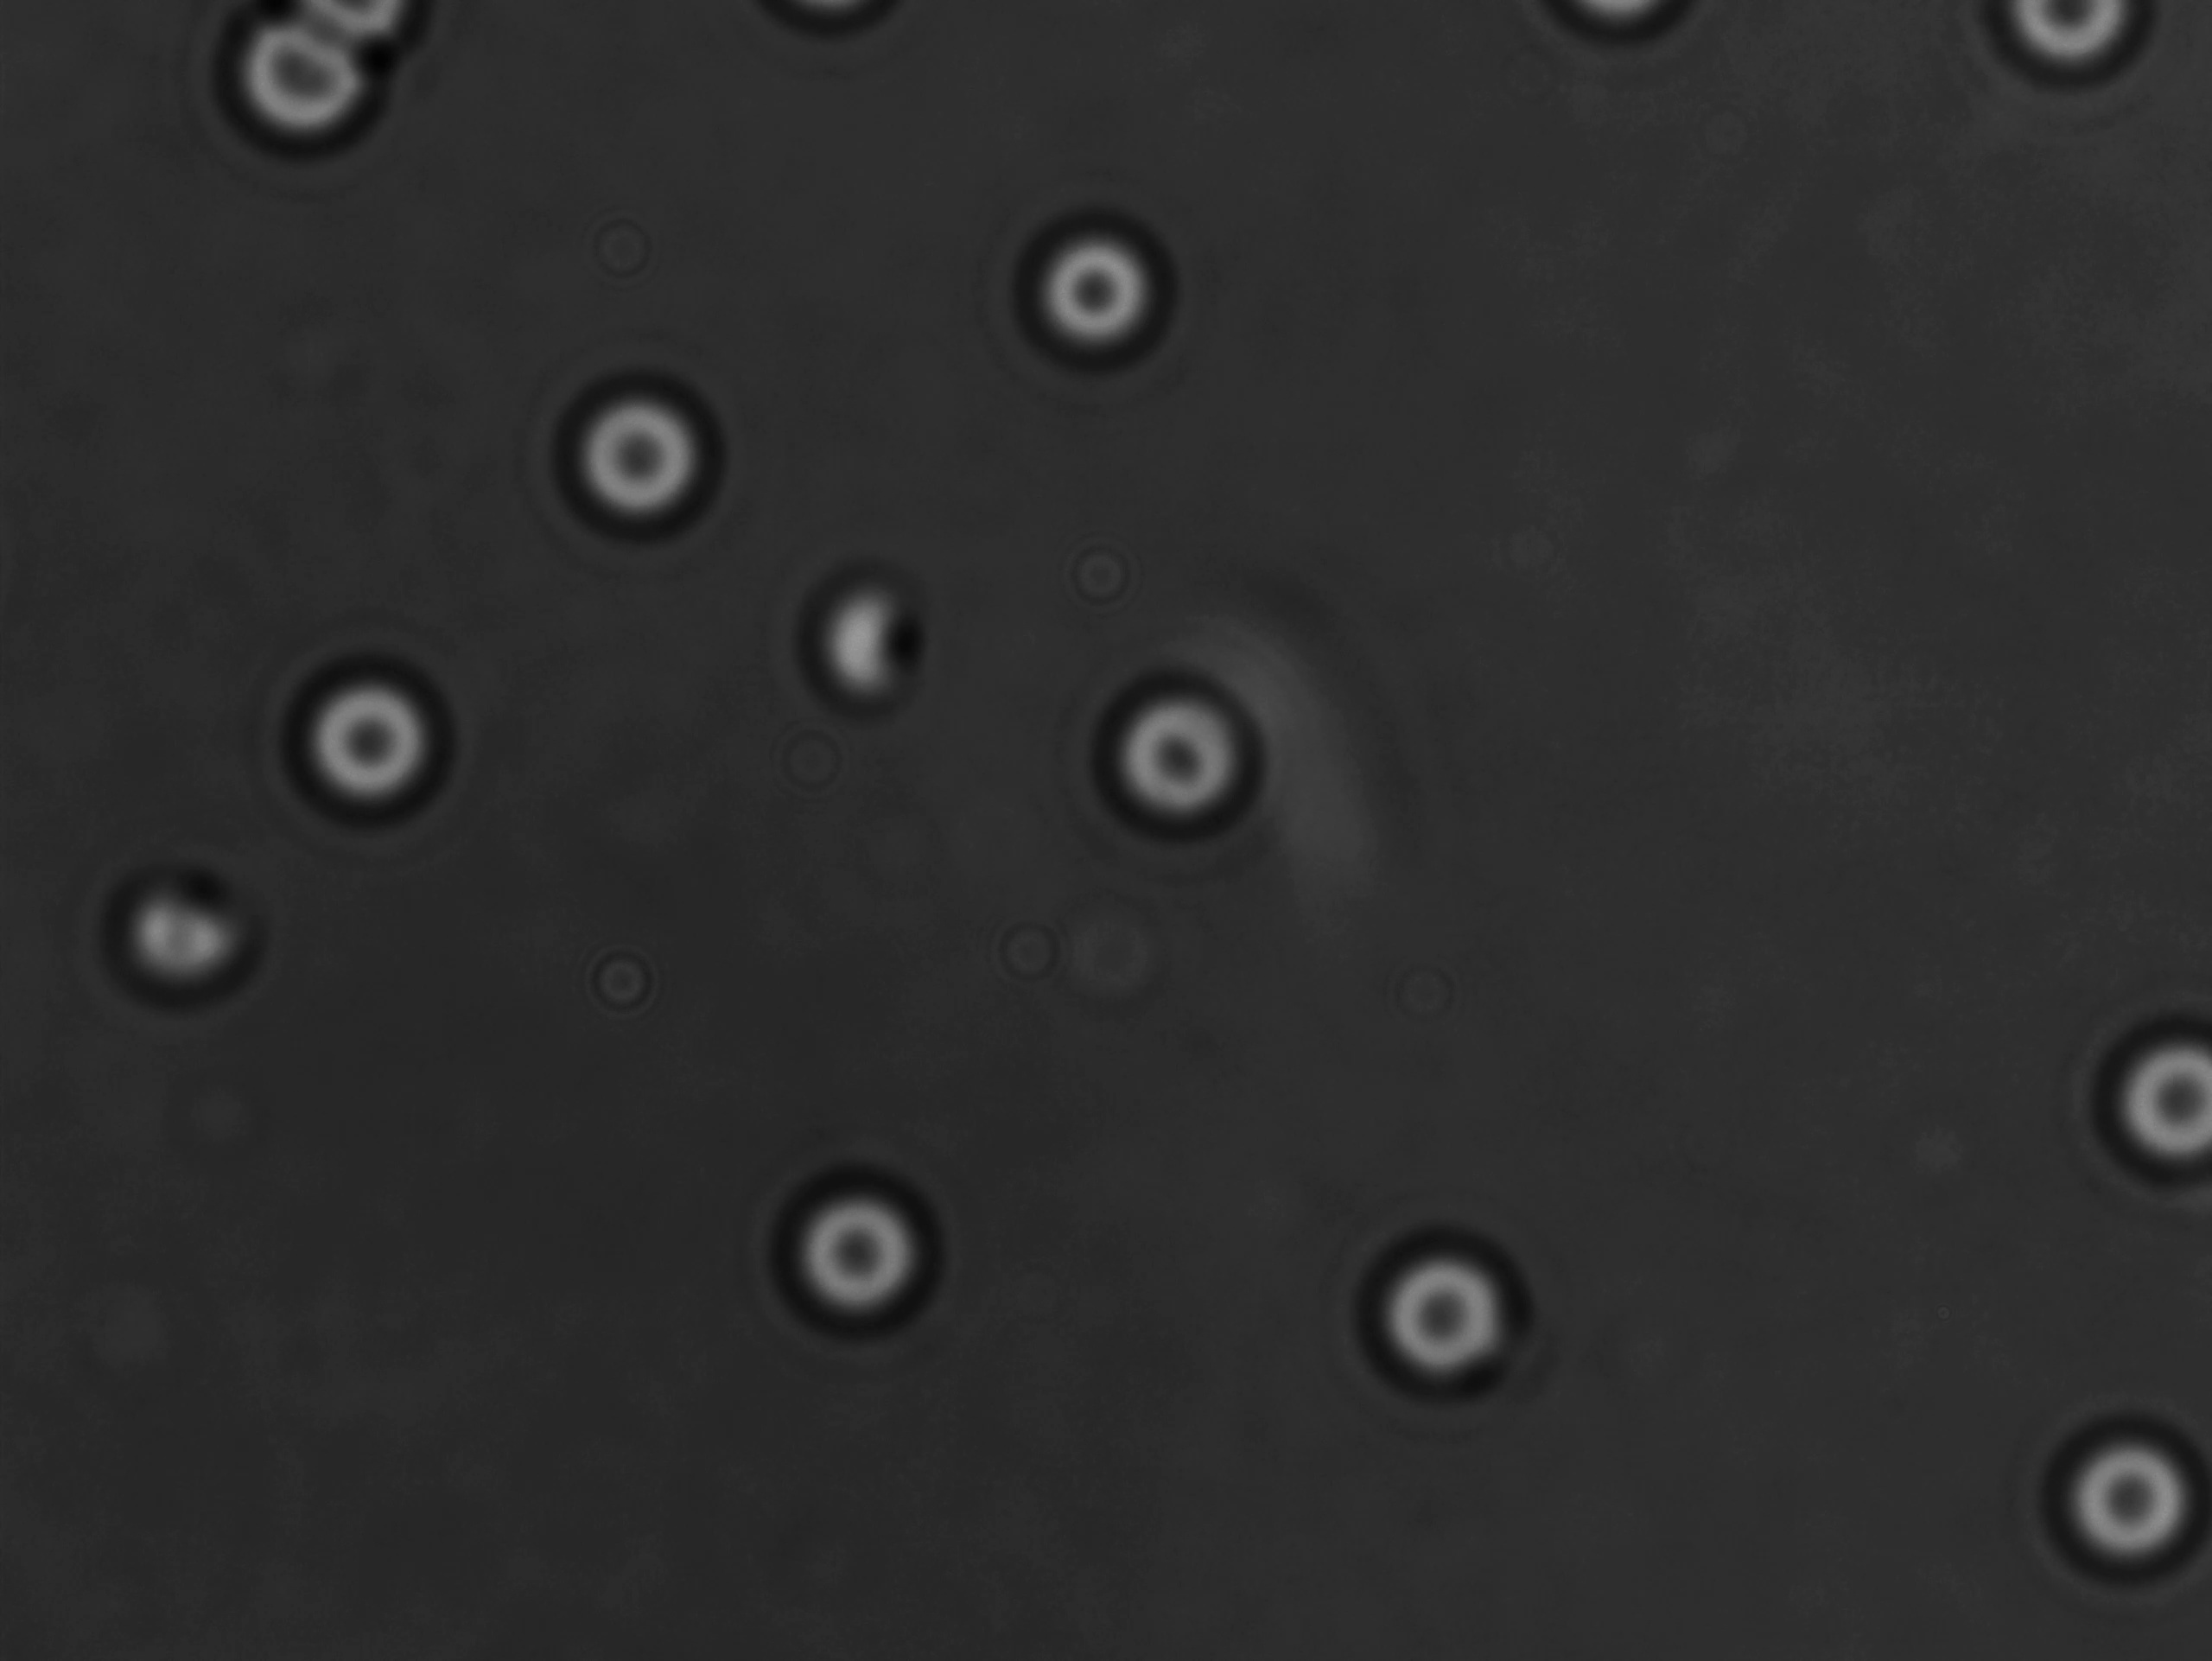depth:80: (754, 1143, 987, 1361), (529, 340, 755, 551), (993, 178, 1195, 398), (1085, 653, 1286, 862), (274, 642, 478, 839), (1359, 1207, 1551, 1403), (2034, 1399, 2212, 1595), (2076, 1003, 2212, 1200)
